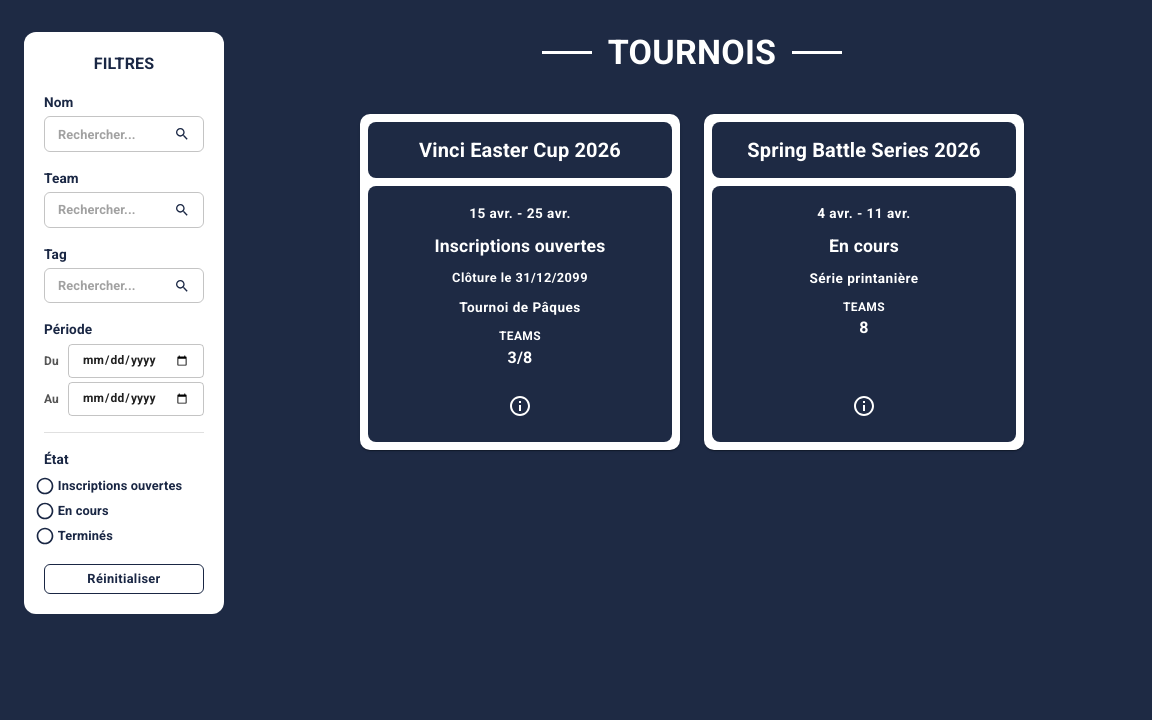
Scenario: TournamentsPage › filtre par statut "Inscriptions ouvertes"
The width and height of the screenshot is (1152, 720).
Check: the heading "Vinci Easter Cup 2026" is shown, box [419,138,621,162]
Click the radio button labelled "Inscriptions ouvertes". click: (110, 486)
box: [33,474,188,498]
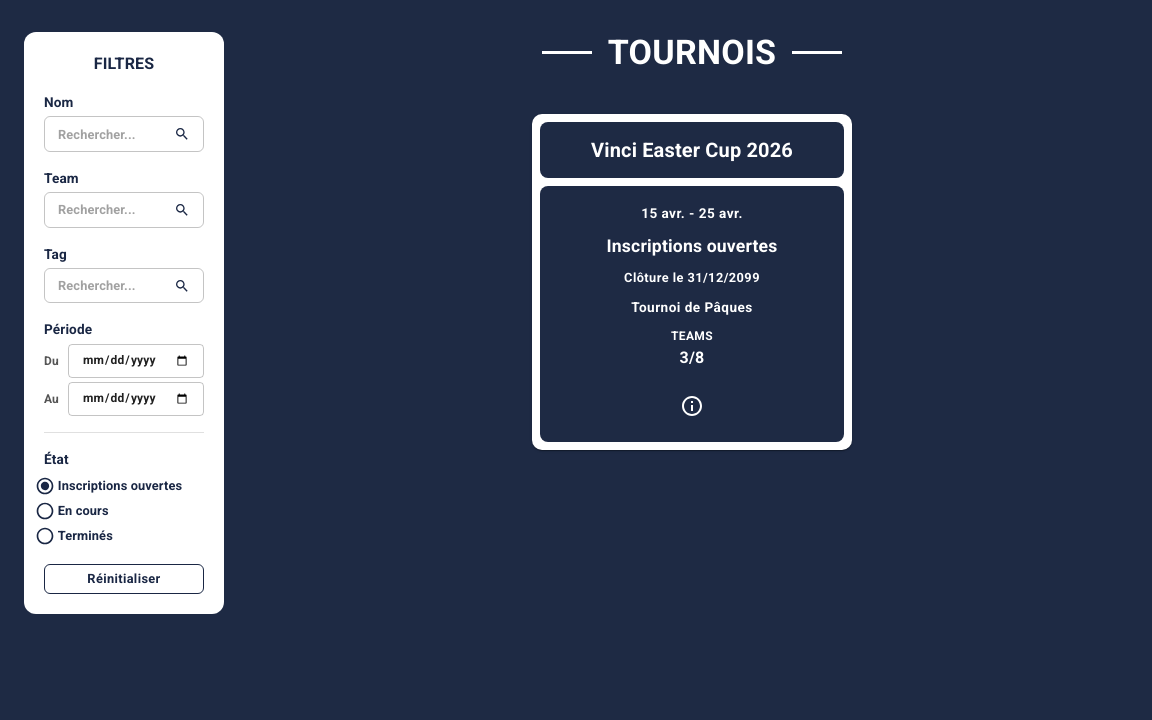
Check: the heading "Vinci Easter Cup 2026" is shown, box [591,138,793,162]
Check: the heading "Spring Battle Series 2026" is gone
